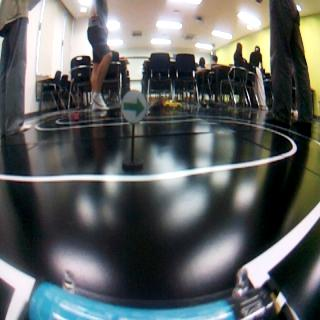right: (122, 89, 147, 128)
